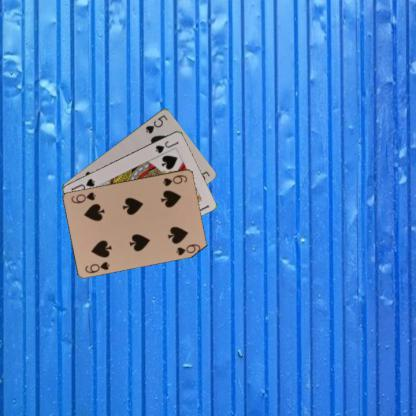5s: (142, 112, 168, 135)
6s: (160, 172, 188, 187), (83, 259, 111, 274)
Js: (153, 138, 180, 154)
